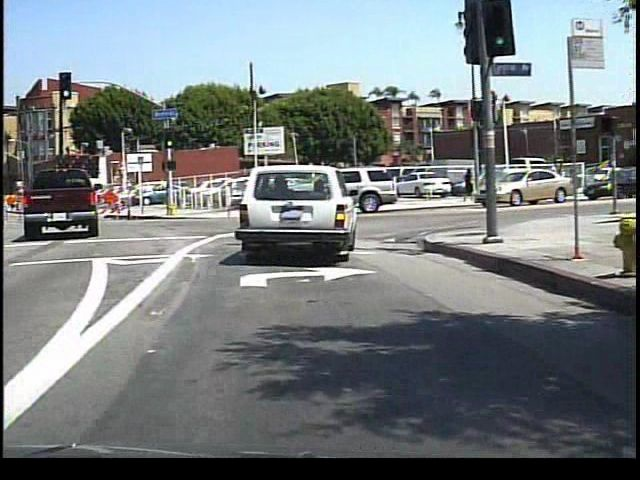person: (457, 164, 472, 205)
